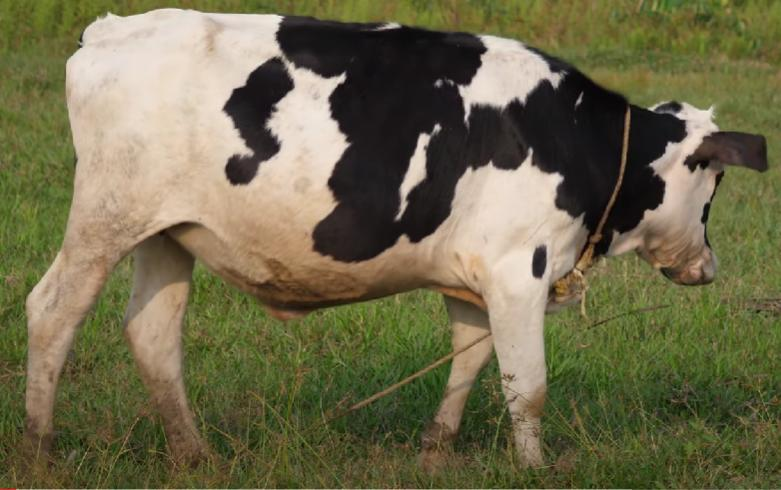cow: (28, 12, 729, 466)
